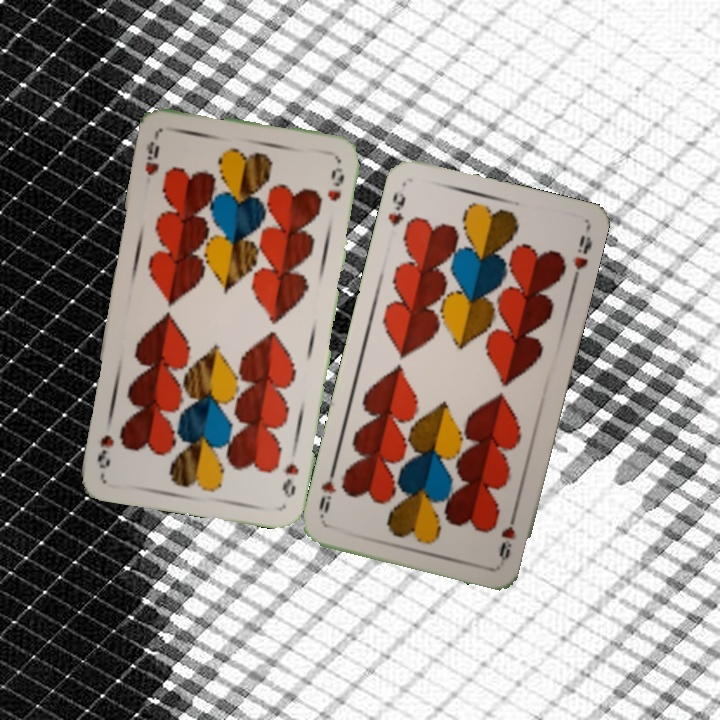H9: (495, 507, 519, 566), (384, 183, 409, 229), (141, 129, 162, 178), (278, 459, 301, 501)
